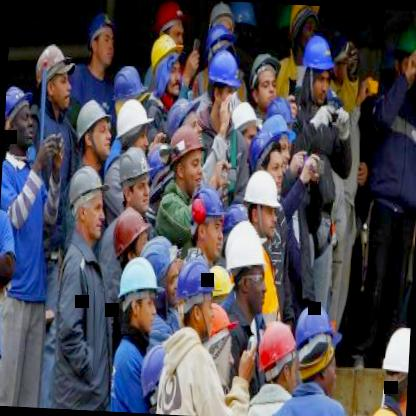helmet: (292, 304, 342, 390), (223, 227, 270, 313), (256, 318, 302, 394), (173, 259, 216, 334), (118, 256, 159, 334), (64, 164, 107, 238), (136, 235, 180, 304), (379, 322, 410, 416), (32, 40, 74, 106), (115, 146, 155, 214), (241, 168, 280, 237), (187, 186, 225, 255), (206, 48, 242, 120), (164, 126, 205, 188), (74, 96, 113, 160), (300, 34, 334, 104), (148, 32, 182, 100), (112, 207, 150, 266), (244, 124, 284, 180), (109, 63, 151, 116), (113, 96, 152, 152), (245, 48, 280, 108), (3, 84, 35, 148), (286, 4, 322, 60), (152, 0, 187, 53), (84, 11, 116, 68), (228, 96, 259, 152), (226, 1, 260, 52), (206, 20, 238, 66), (394, 26, 416, 92)
